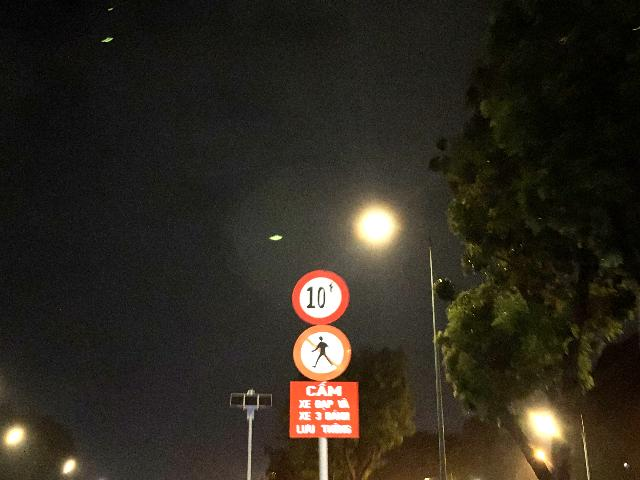cam-nguoi-di-bo: (293, 324, 352, 382)
han-che-trong-luong-xe: (292, 270, 350, 324)
